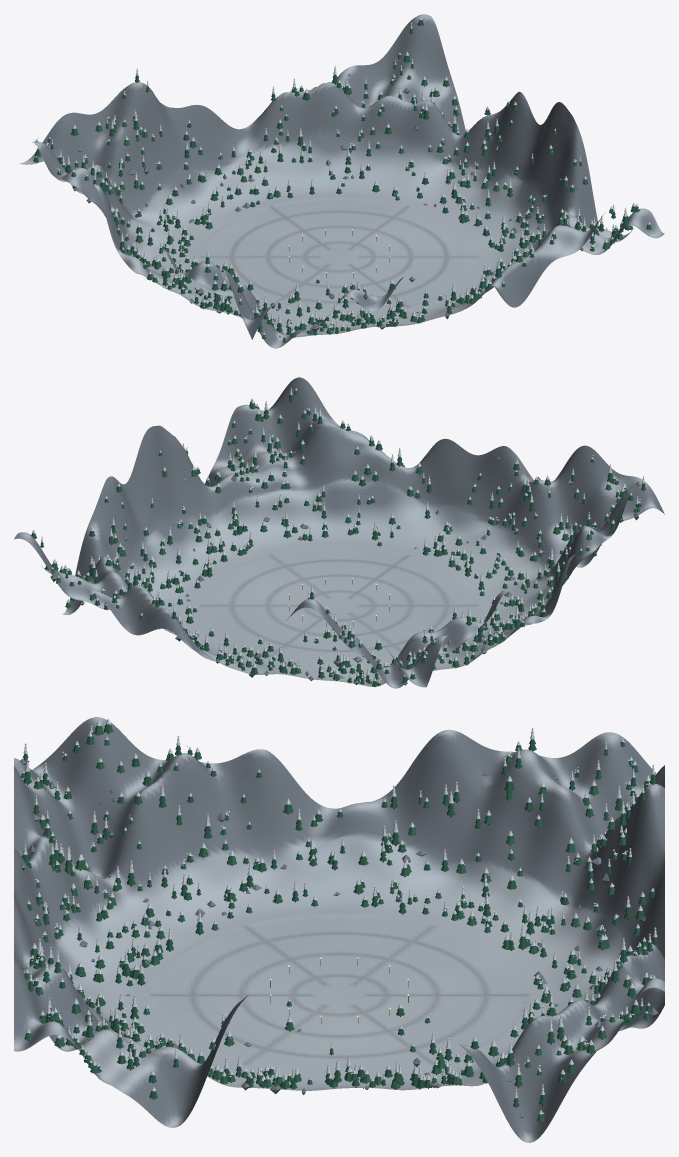
Rendered from ground.glb.
3 renders of one model, top to bottom at view 1: azimuth 30°, elevation 25°; view 2: azimuth 150°, elevation 25°; view 3: azimuth 270°, elevation 25°, orthographic. The views are drawn at different scales.
Parts seen in each view (by area): view 1: ground; view 2: ground; view 3: ground.
Part boxes in pixels (left/top/right/bottom): ground: left=19, top=14, right=664, bottom=348; ground: left=14, top=377, right=664, bottom=688; ground: left=14, top=717, right=664, bottom=1142.
Bounding box in the file's own units: 160 × 49.66 × 160.
